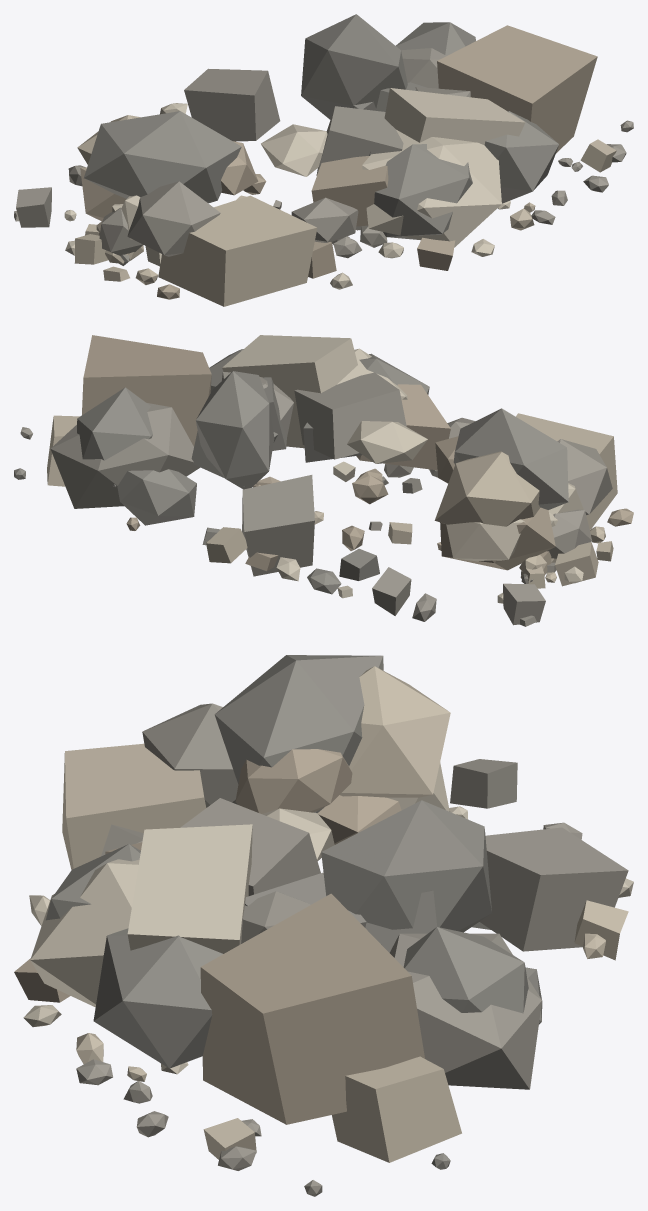
File: preview.glb
3 views of the same model, one above another, from view 1: azimuth 30°, elevation 25°; view 2: azimuth 150°, elevation 25°; view 3: azimuth 270°, elevation 25° (orthographic). The views are drawn at different scales.
Parts seen in each view (by area): view 1: Pile01 rock011, Pile01 rock017, Pile01 rock000, Pile01 rock022, Pile01 rock001, Pile01 rock007, Pile01 rock029, Pile01 rock023, Pile01 rock025, Pile01 rock027, Pile01 rock002, Pile01 rock008 (+14 smaller); view 2: Pile01 rock017, Pile01 rock004, Pile01 rock022, Pile01 rock029, Pile01 rock000, Pile01 rock023, Pile01 rock002, Pile01 rock009, Pile01 rock016, Pile01 rock018, Pile01 rock008, Pile01 rock019 (+26 smaller); view 3: Pile01 rock017, Pile01 rock022, Pile01 rock029, Pile01 rock000, Pile01 rock023, Pile01 rock027, Pile01 rock011, Pile01 rock004, Pile01 rock009, Pile01 rock005, Pile01 rock001, Pile01 rock016 (+14 smaller).
Part boxes in pixels (<box>): Pile01 rock011: <box>158,195,317,306</box>; Pile01 rock017: <box>437,25,597,153</box>; Pile01 rock000: <box>84,111,241,203</box>; Pile01 rock022: <box>301,14,407,119</box>; Pile01 rock001: <box>362,129,501,247</box>; Pile01 rock007: <box>374,144,472,240</box>; Pile01 rock029: <box>384,88,525,145</box>; Pile01 rock023: <box>184,68,280,141</box>; Pile01 rock025: <box>127,181,220,256</box>; Pile01 rock027: <box>484,111,559,203</box>; Pile01 rock002: <box>316,106,403,175</box>; Pile01 rock008: <box>311,156,388,226</box>; Pile01 rock017: <box>82,335,211,446</box>; Pile01 rock004: <box>50,403,200,508</box>; Pile01 rock022: <box>196,371,274,489</box>; Pile01 rock029: <box>222,335,357,448</box>; Pile01 rock000: <box>453,408,568,509</box>; Pile01 rock023: <box>242,475,314,576</box>; Pile01 rock002: <box>294,372,406,459</box>; Pile01 rock009: <box>434,451,540,526</box>; Pile01 rock016: <box>77,387,152,487</box>; Pile01 rock018: <box>117,469,196,525</box>; Pile01 rock008: <box>356,384,450,470</box>; Pile01 rock019: <box>446,519,524,561</box>; Pile01 rock017: <box>200,893,424,1124</box>; Pile01 rock022: <box>321,800,491,932</box>; Pile01 rock029: <box>127,824,252,953</box>; Pile01 rock000: <box>214,655,383,813</box>; Pile01 rock023: <box>479,827,628,951</box>; Pile01 rock027: <box>93,928,222,1068</box>; Pile01 rock011: <box>62,743,206,869</box>; Pile01 rock004: <box>390,933,541,1089</box>; Pile01 rock009: <box>340,666,450,797</box>; Pile01 rock005: <box>332,1056,461,1162</box>; Pile01 rock001: <box>30,859,139,1007</box>; Pile01 rock016: <box>403,927,528,1013</box>.
Size of the model in its own units: 1.9 by 0.5025 by 1.2.
